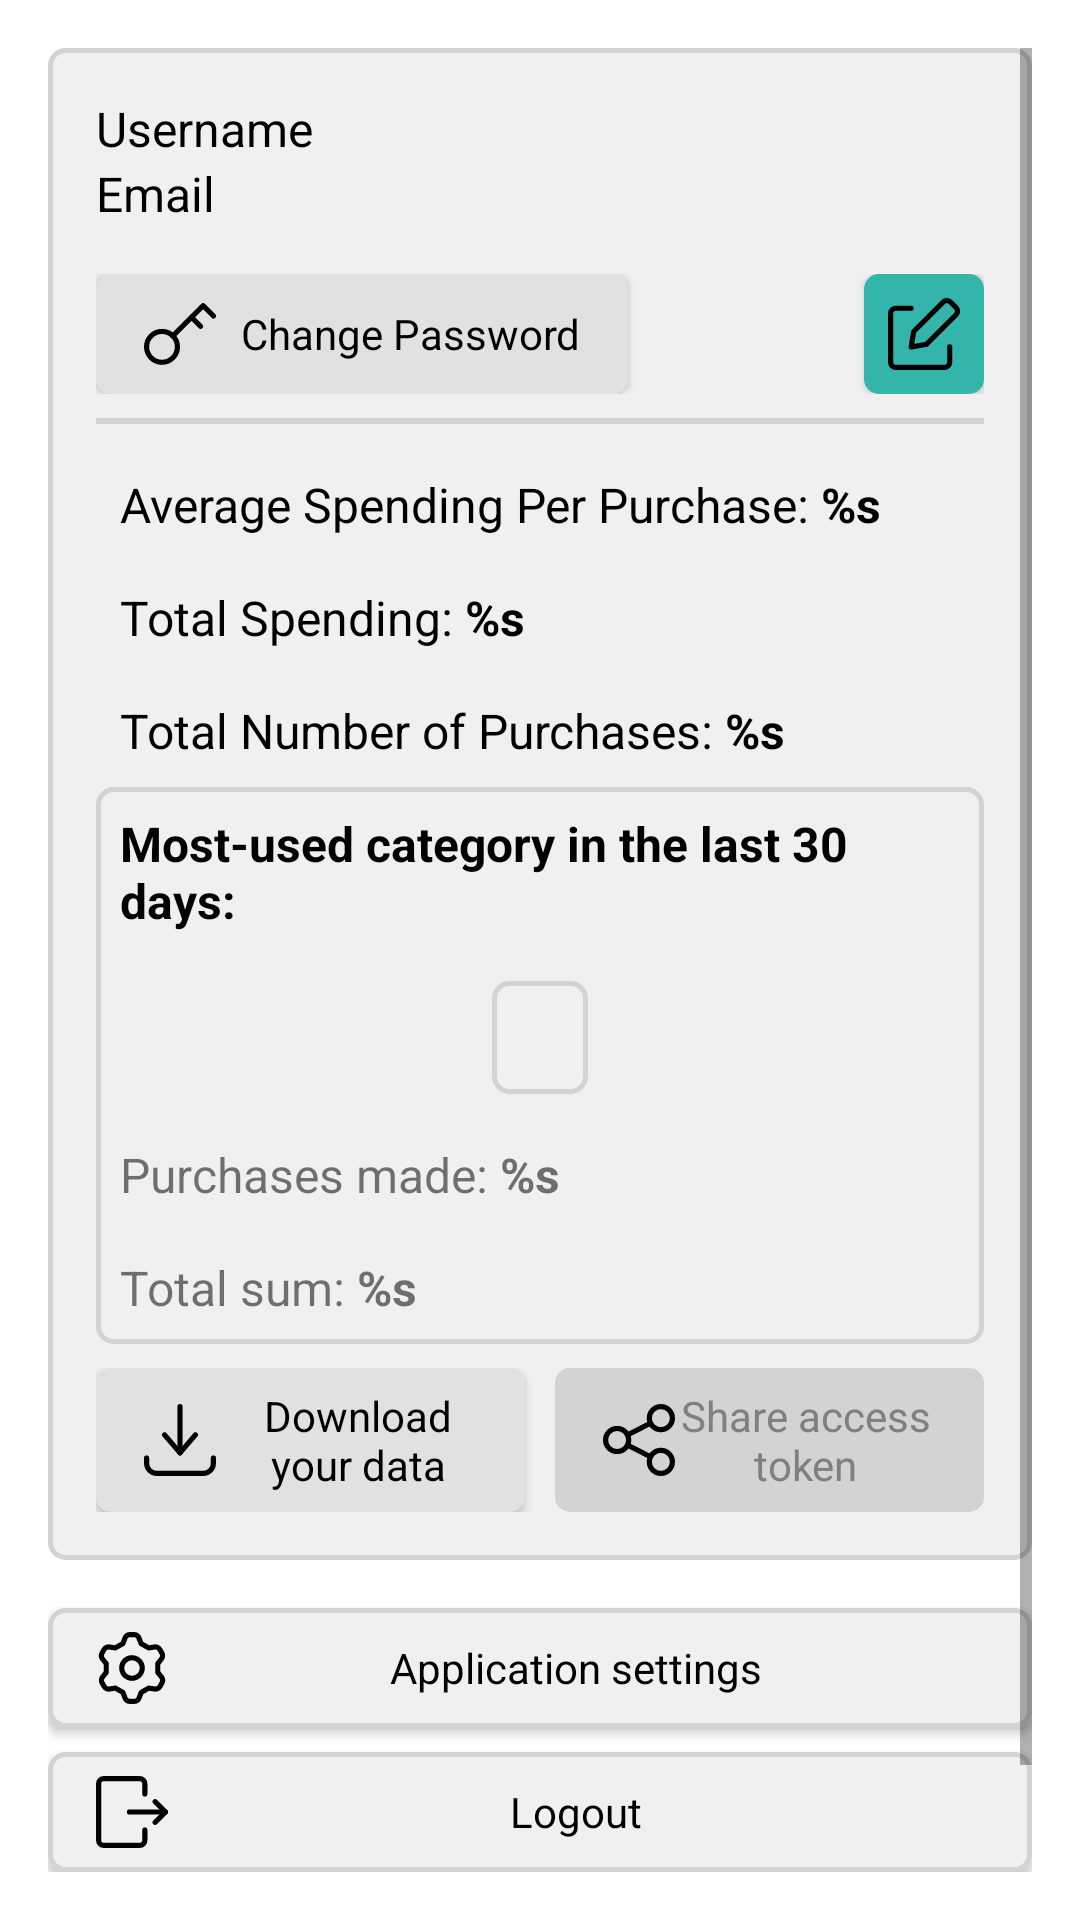

Locate icon controls on the screen. Image size 1080x1920, boxes as (x1, y1, x2, y2).
Edit: (864, 274, 984, 394)
